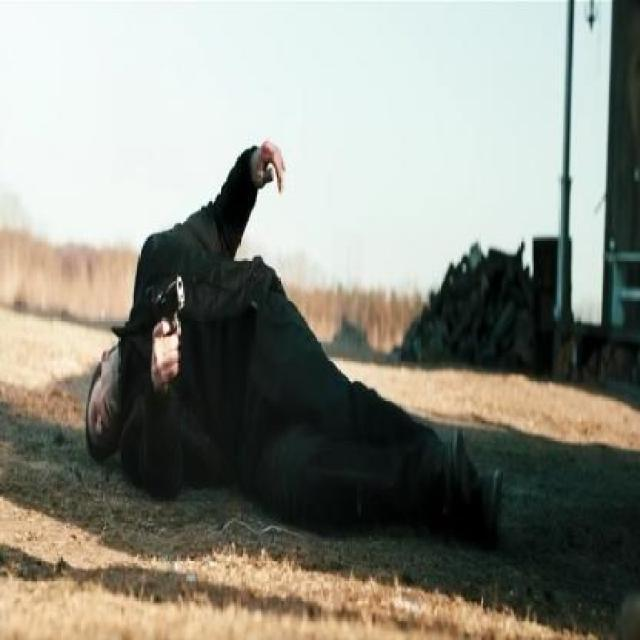gun: (148, 264, 194, 360)
